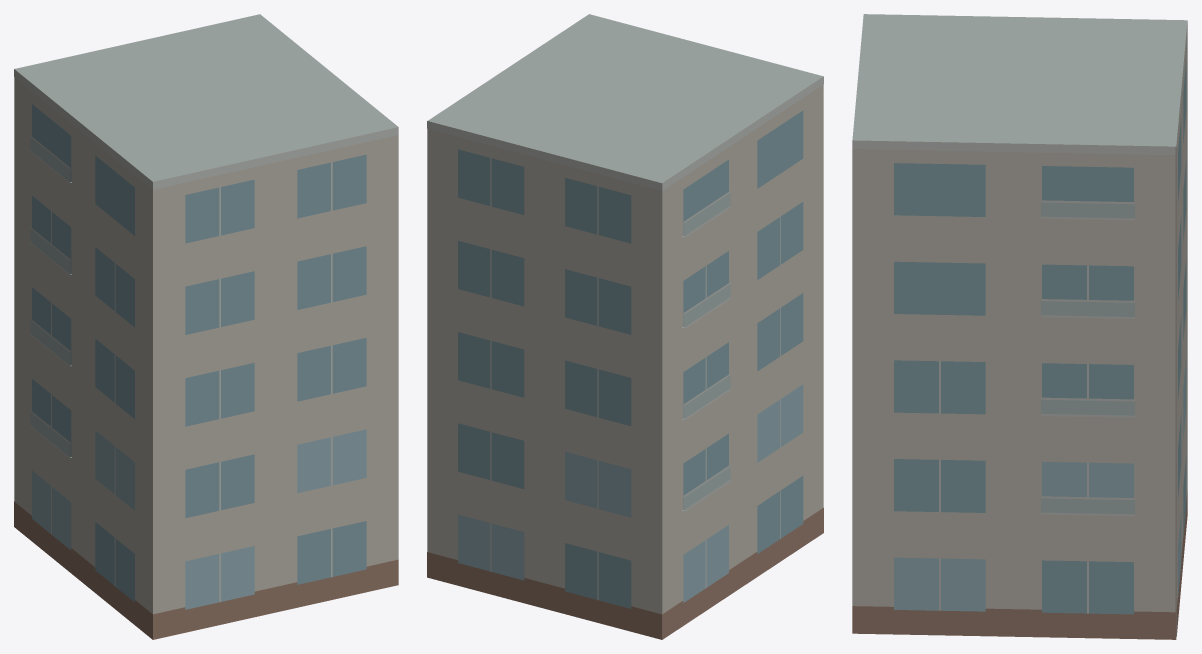
Rendered from survey-upis-32774127.glb.
3 renders of one model, left to right at view 1: azimuth 30°, elevation 25°; view 2: azimuth 150°, elevation 25°; view 3: azimuth 270°, elevation 25°, orthographic. The views are drawn at different scales.
Visible parts, largest first — view 1: survey-upis-32774127.tmp; view 2: survey-upis-32774127.tmp; view 3: survey-upis-32774127.tmp.
Boxes of the visible parts, left/top/right/bottom form: survey-upis-32774127.tmp: left=14, top=14, right=398, bottom=639; survey-upis-32774127.tmp: left=427, top=14, right=823, bottom=639; survey-upis-32774127.tmp: left=852, top=14, right=1187, bottom=639.
Size of the model in its own units: 8.2 by 14.2 by 8.76.
